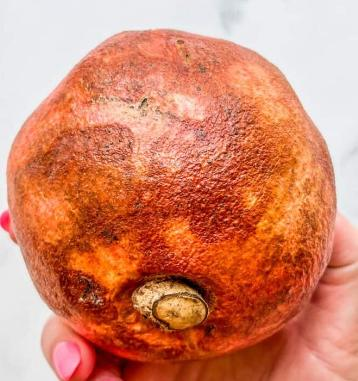pomegranate_C: (5, 28, 339, 364)
